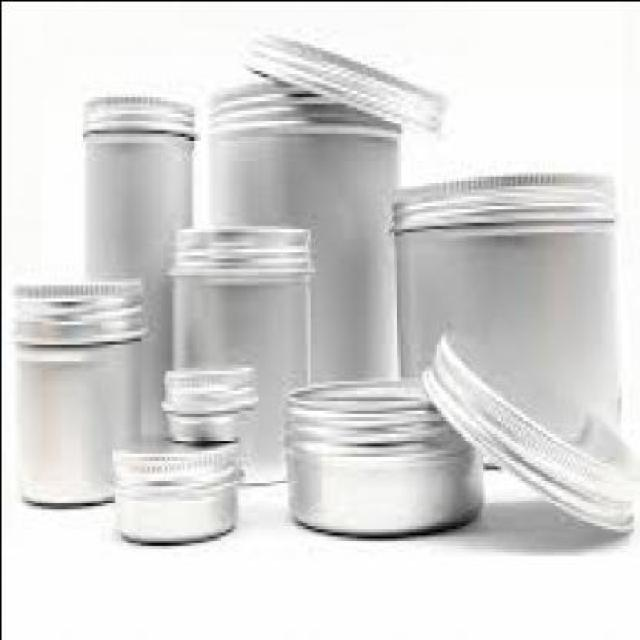METAL: (389, 172, 613, 466), (204, 86, 396, 429), (420, 323, 628, 534), (79, 91, 193, 442), (165, 224, 308, 471), (284, 380, 482, 531), (10, 283, 144, 502), (237, 27, 440, 131), (106, 446, 240, 534), (154, 363, 249, 435)
